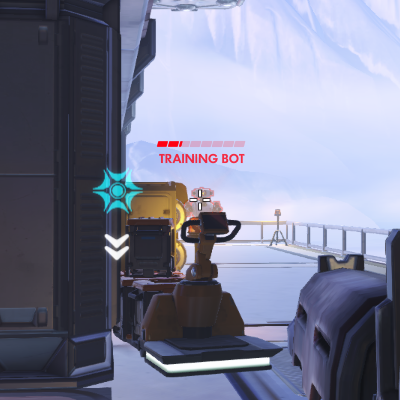hpbar: (156, 140, 246, 148)
